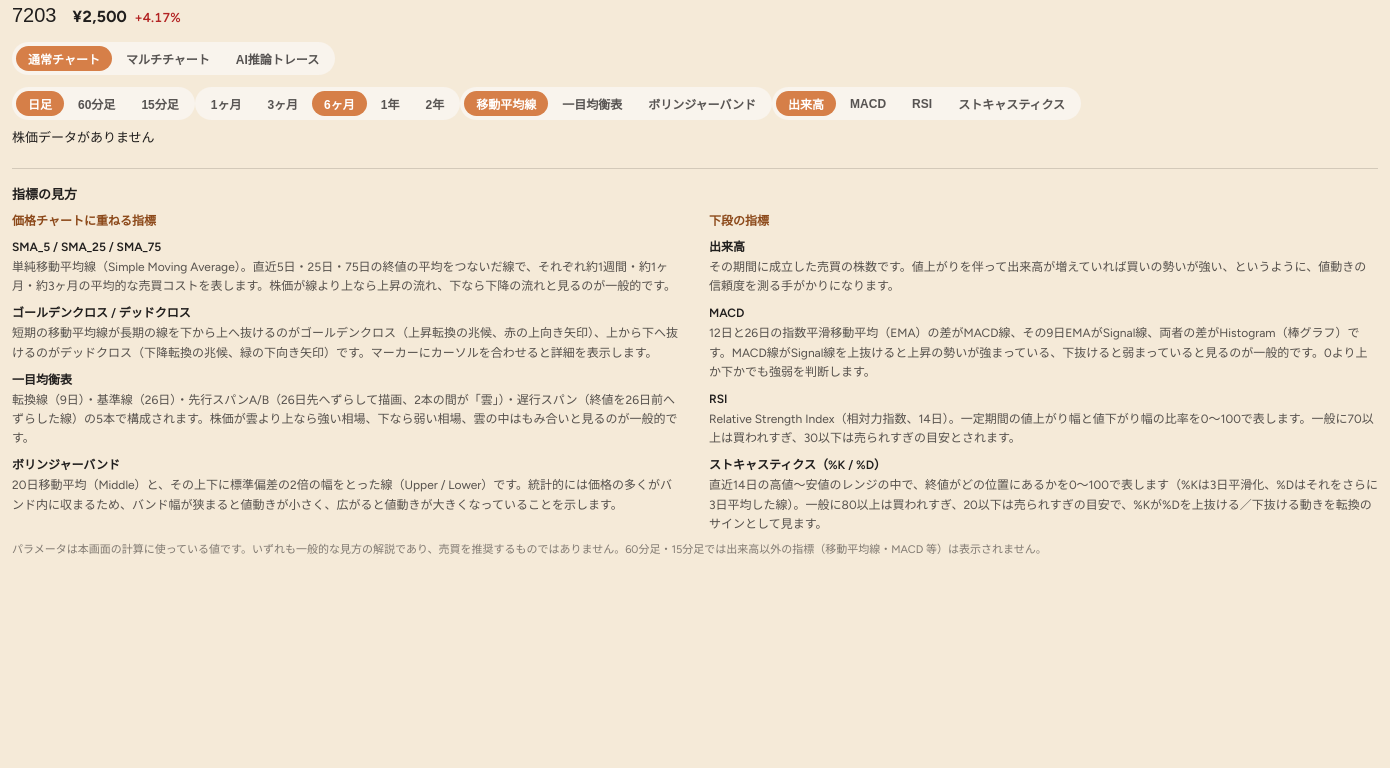
ChartPanel › 「AI推論トレース」タブへ切り替えるとオンデマンド推論パネルが表示される（🆕 P36）
Expected: the element named "足種" is shown, left=12, top=87, right=195, bottom=120
Click the button "AI推論トレース".
click(278, 58)  # box left=224, top=46, right=331, bottom=71
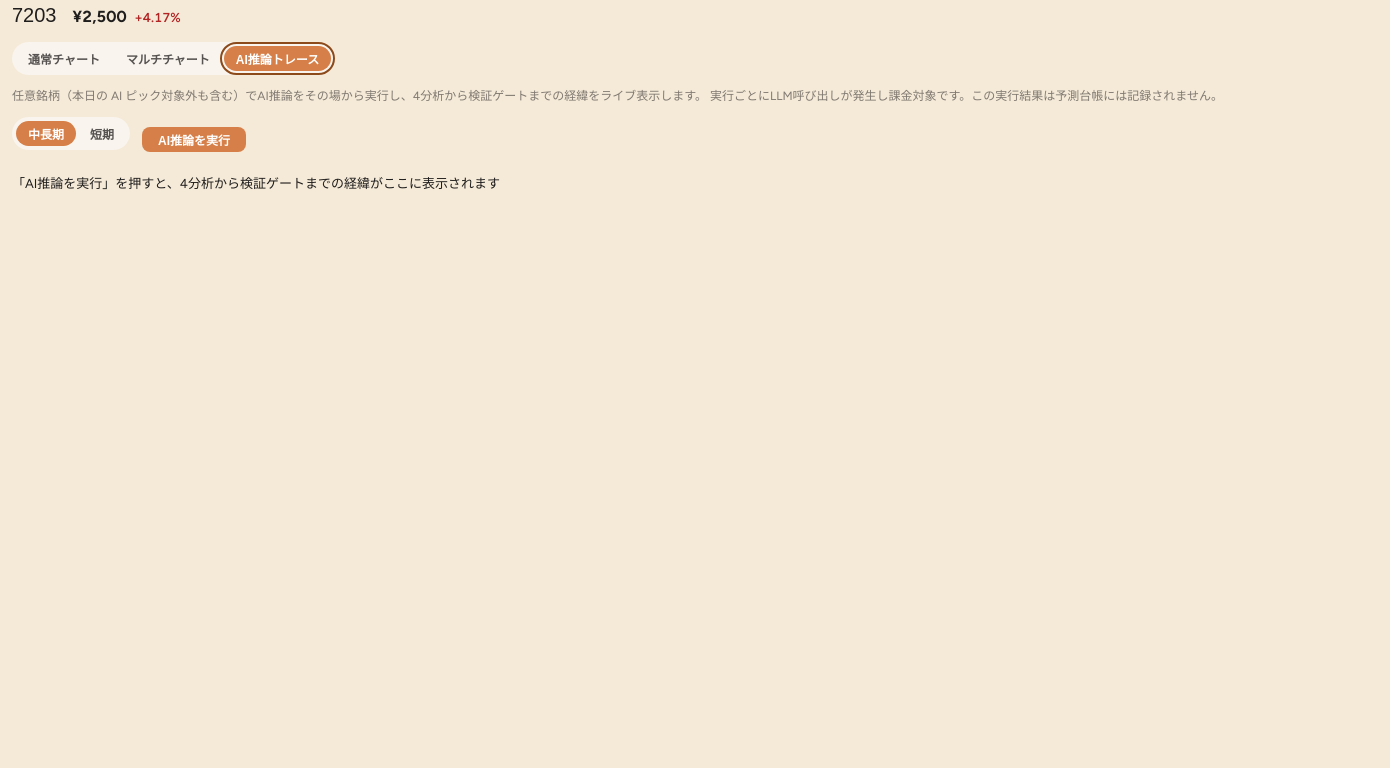
Expected: the element "足種" is gone
Expected: the button "AI推論を実行" is shown, left=142, top=127, right=246, bottom=152
